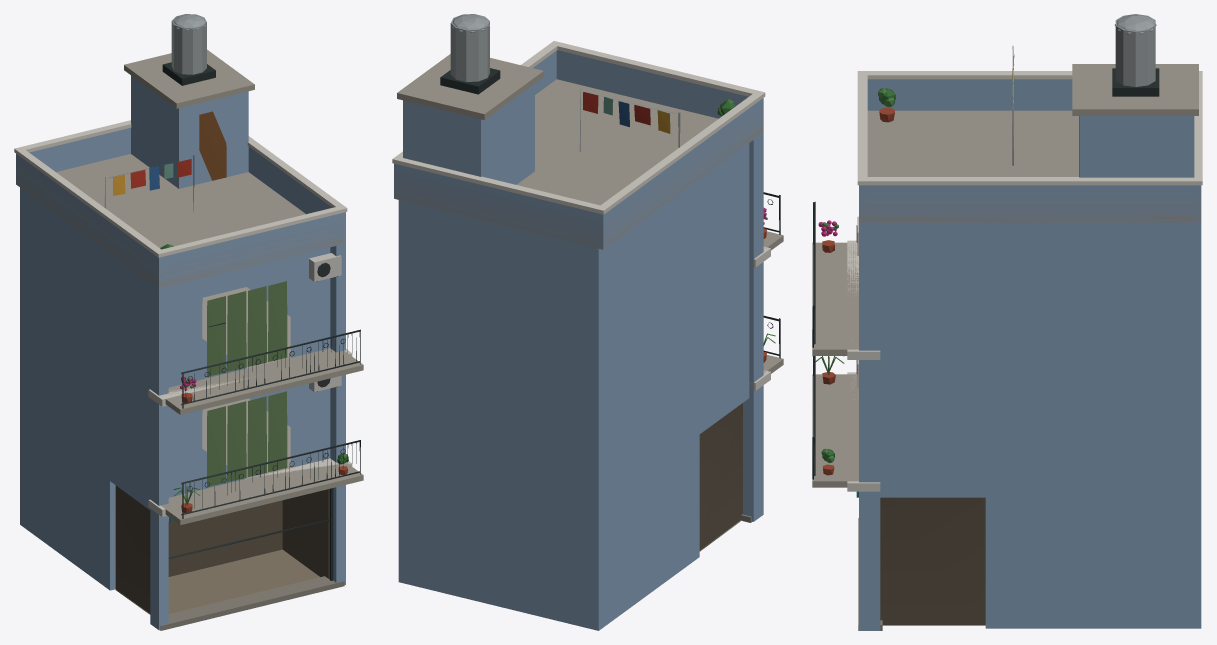
The model's file is nha_F.glb.
3 views of the same model, side by side, from view 1: azimuth 30°, elevation 25°; view 2: azimuth 150°, elevation 25°; view 3: azimuth 270°, elevation 25° (orthographic). The views are drawn at different scales.
Visible parts, largest first — view 1: nha_F; view 2: nha_F; view 3: nha_F.
Part boxes in pixels (x1,y1,x2,y2): nha_F: (14,14,363,630); nha_F: (392,14,783,630); nha_F: (812,14,1202,630).
Bounding box in the file's own units: 5.6 × 13.88 × 8.33.
